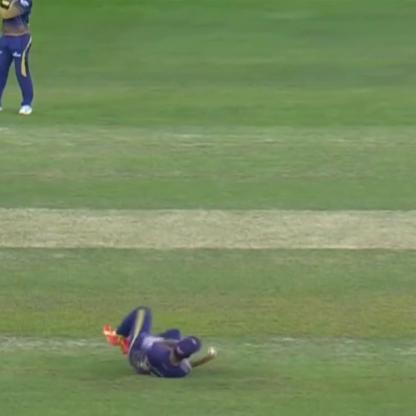ball: (202, 340, 216, 360)
